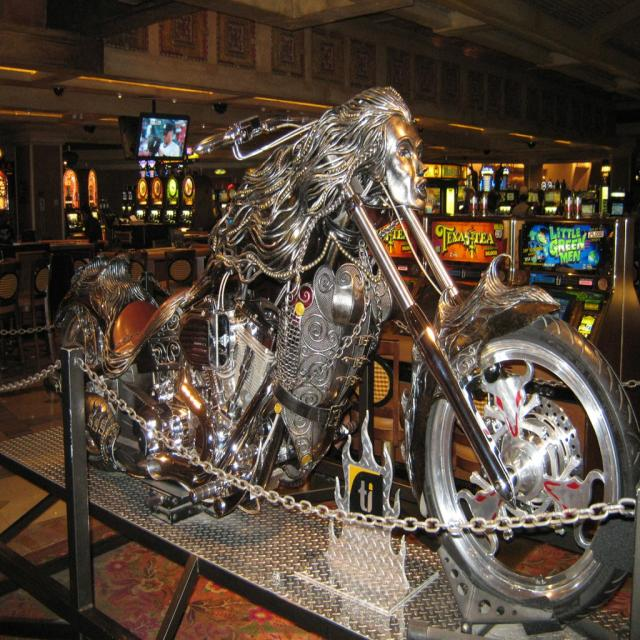Motorbikes: (46, 86, 640, 626)
